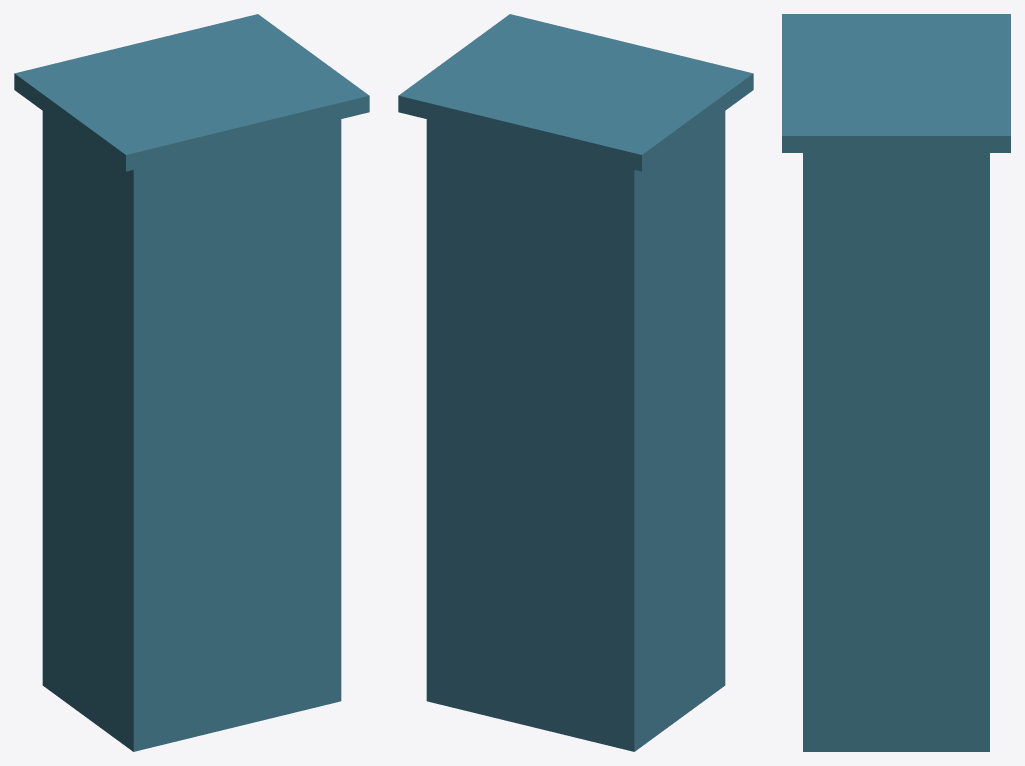
Rendered from vent tile.FBX.
3 views of the same model, side by side, from view 1: azimuth 30°, elevation 25°; view 2: azimuth 150°, elevation 25°; view 3: azimuth 270°, elevation 25° (orthographic). The views are drawn at different scales.
Visible parts, largest first — view 1: tarelkey004; view 2: tarelkey004; view 3: tarelkey004.
Boxes of the visible parts, x1,y1,x2,y2 form: tarelkey004: (14,14,369,751); tarelkey004: (398,14,753,751); tarelkey004: (782,14,1010,751).
Bounding box in the file's own units: 0.8608 × 2.06 × 0.6828.
